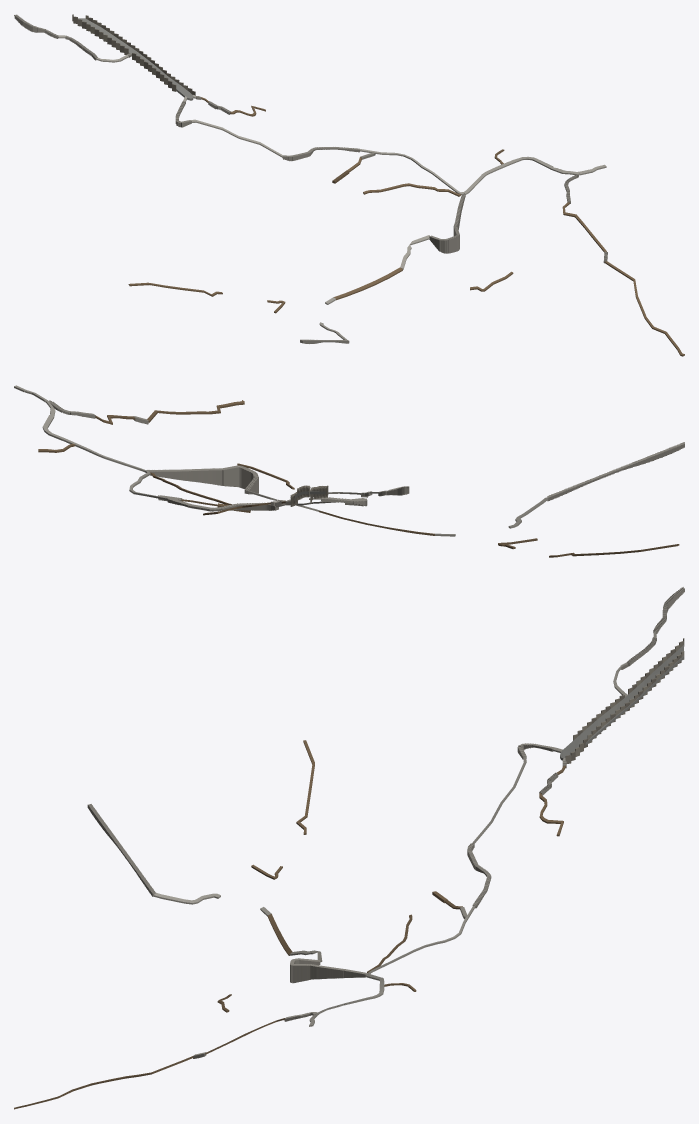
The picture shows the model from 3 angles, top to bottom: view 1: azimuth 30°, elevation 25°; view 2: azimuth 150°, elevation 25°; view 3: azimuth 270°, elevation 25°; orthographic projection. The views are drawn at different scales.
Bounding box in the file's own units: 293 × 139 × 292.
